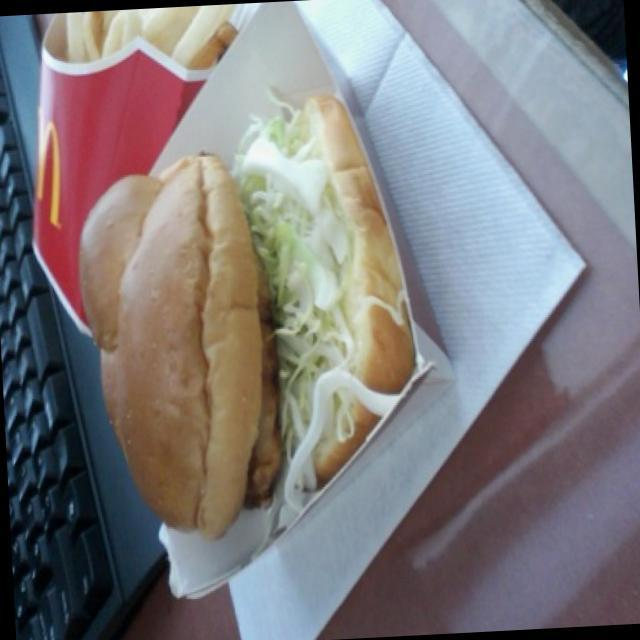Hamburger: (90, 106, 380, 536)
